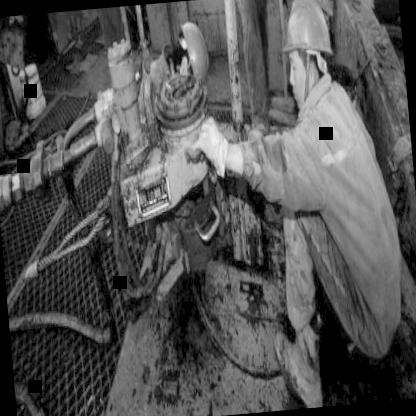helmet: (272, 0, 339, 110), (164, 20, 214, 96)
